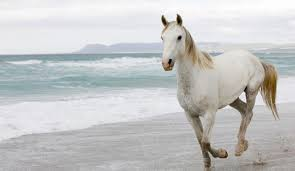horse: (161, 11, 284, 169)
